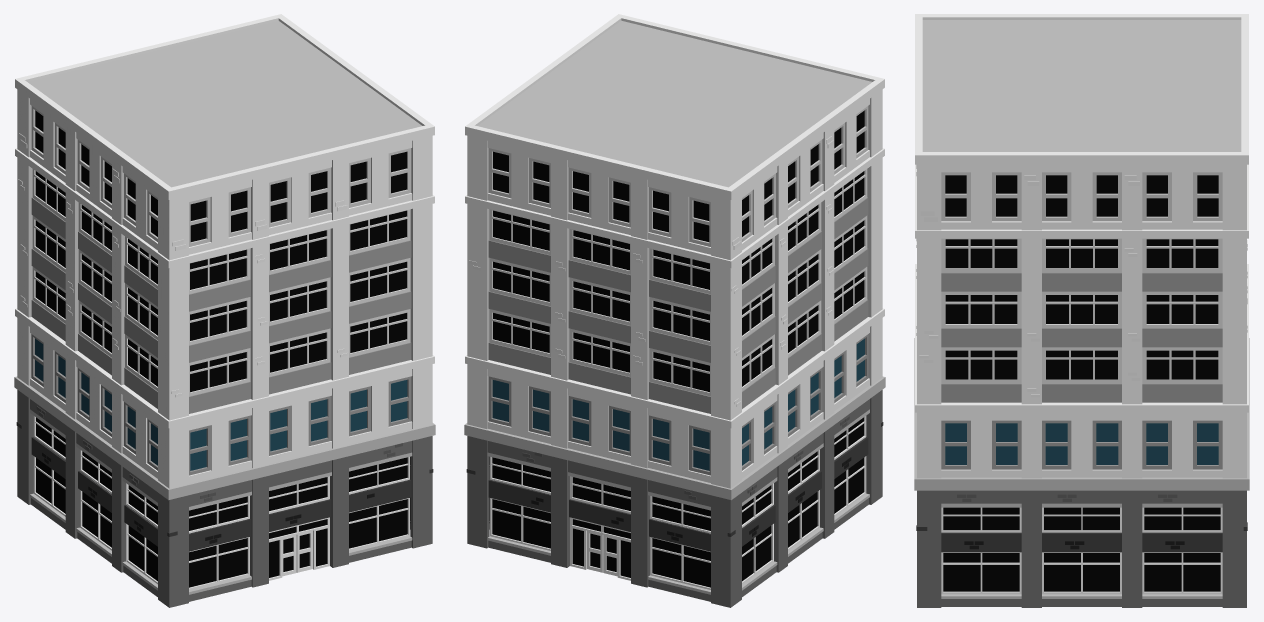
3 renders of one model, left to right at view 1: azimuth 30°, elevation 25°; view 2: azimuth 150°, elevation 25°; view 3: azimuth 270°, elevation 25°, orthographic. The views are drawn at different scales.
Visible parts, largest first — view 1: Building; view 2: Building; view 3: Building.
Part boxes in pixels (x1,y1,x2,y2): Building: [14, 14, 435, 607]; Building: [464, 14, 885, 607]; Building: [914, 14, 1249, 607].
Size of what is drawn, in the model's own units: 16.4 by 24.5 by 16.4.
